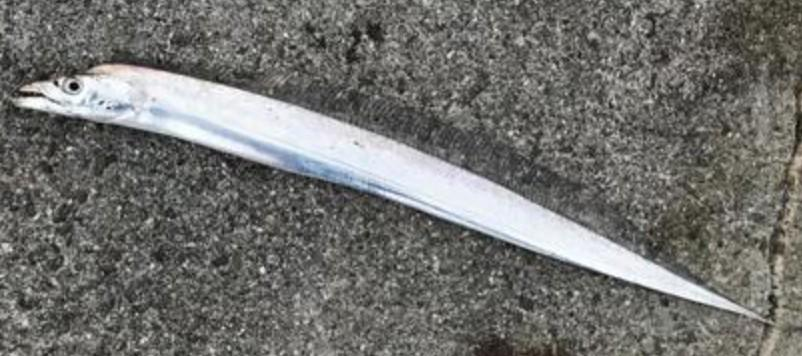fish: (13, 64, 760, 318)
